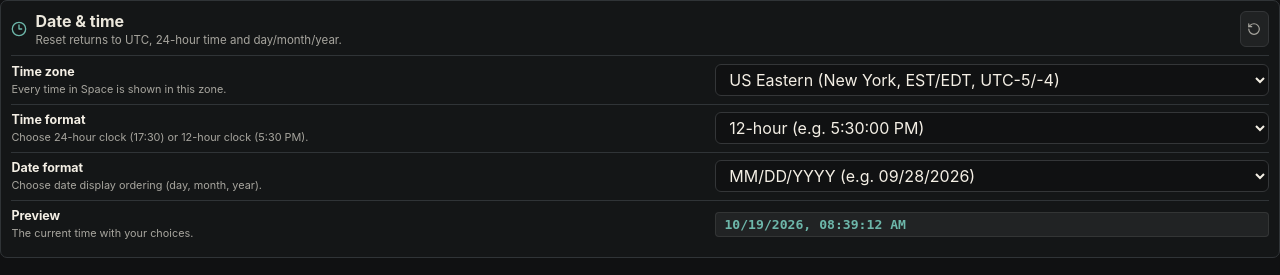
DateTimeSettings › DateTimeSettingsCard UI Component › resets to defaults when reset button is clicked
Step 1. Click the button named "Reset date and time settings to defaults" → [1254, 29], box [1240, 11, 1269, 47]
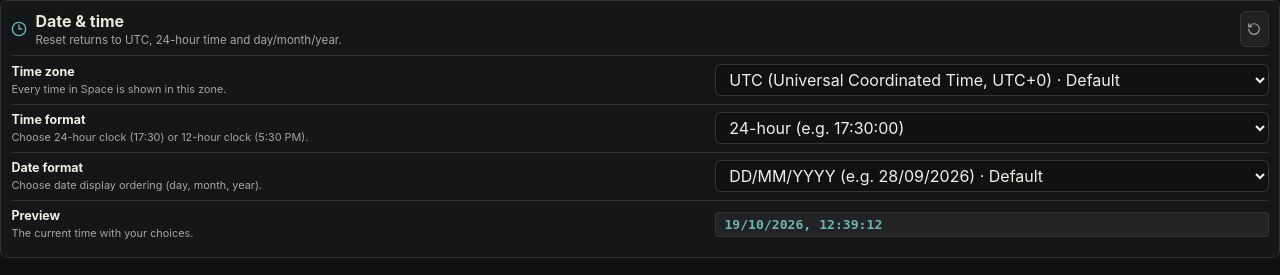
Expected: the dropdown labelled "Time zone" shows "UTC (Universal Coordinated Time, UTC+0) · Default", [715, 64, 1269, 96]
Expected: the dropdown labelled "Time format" shows "24-hour (e.g. 17:30:00)", [715, 112, 1269, 144]
Expected: the dropdown labelled "Date format" shows "DD/MM/YYYY (e.g. 28/09/2026) · Default", [715, 160, 1269, 192]
